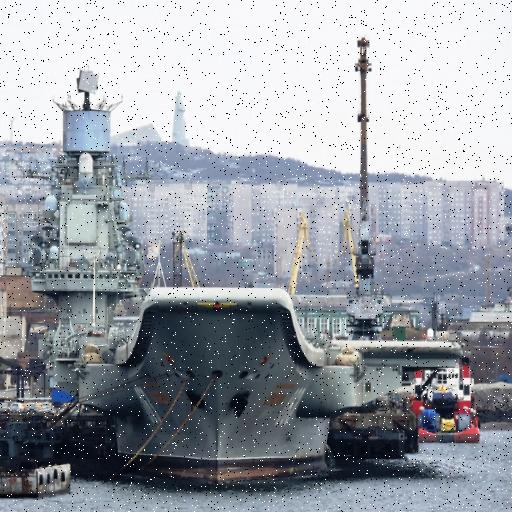Portanaves: (17, 58, 465, 495)
